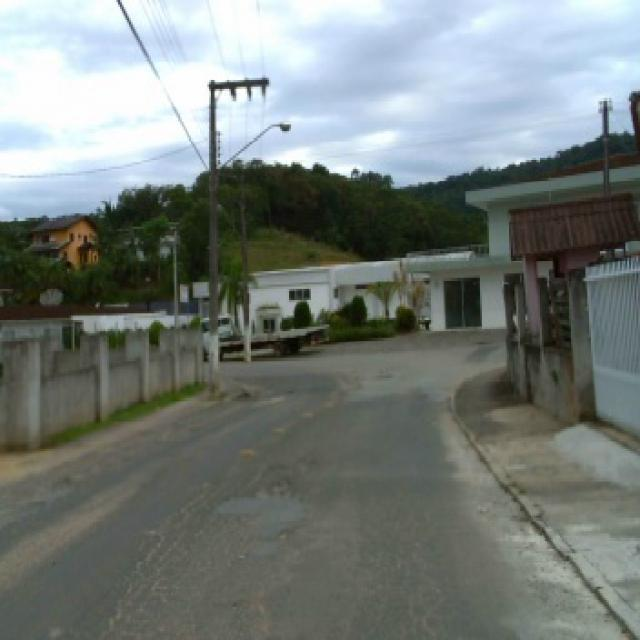Poth-hole: (91, 478, 209, 636), (211, 460, 313, 560), (49, 471, 71, 489), (232, 384, 255, 400), (238, 444, 254, 456), (269, 424, 286, 434), (372, 371, 392, 378), (282, 386, 293, 394)
